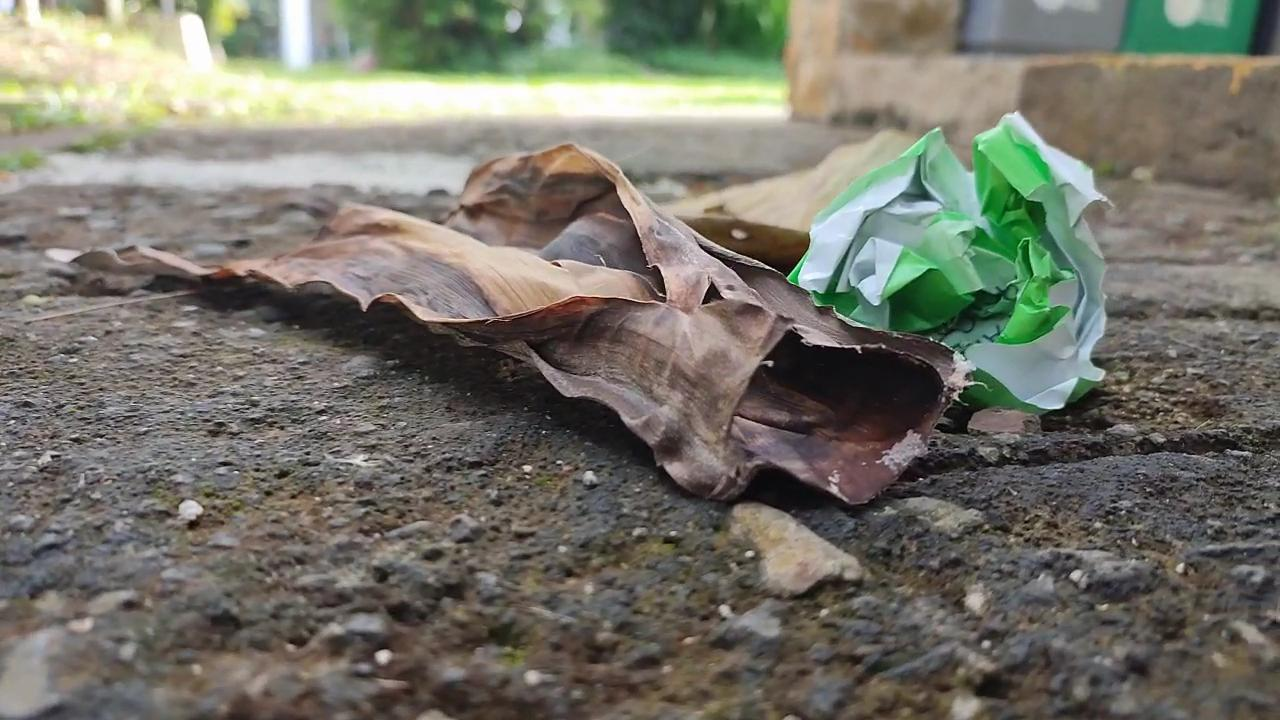Paper: (795, 104, 1126, 430)
